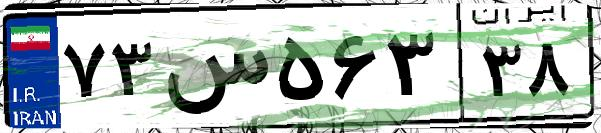3: (385, 28, 445, 110), (475, 38, 525, 113), (110, 28, 158, 98)
5: (270, 28, 330, 110)
6: (330, 28, 385, 110)
7: (57, 26, 110, 100)
8: (525, 38, 570, 115)
س: (158, 20, 270, 120)
